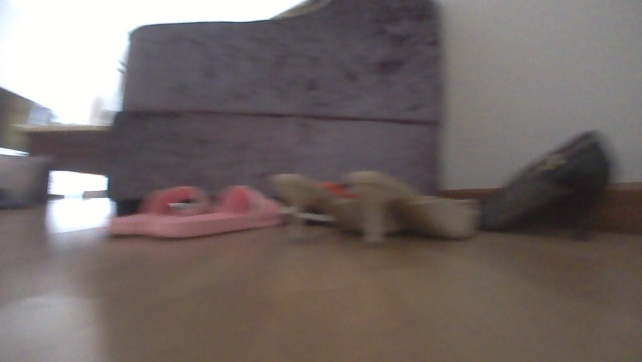shoe: (479, 129, 612, 240), (340, 169, 479, 246)
slipper: (142, 184, 289, 240), (103, 184, 220, 240)
sofa1: (90, 0, 449, 217)
